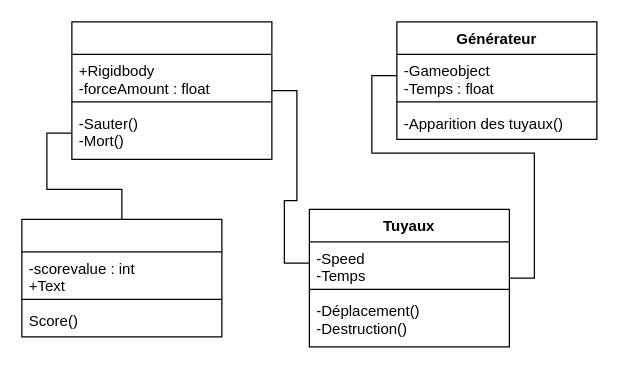
Some shapes in this 619 by 373 pixel diagram are drawn without their labels. Each missing label, with the box of its shape:
Bird: (71, 21, 272, 159)
Point: (21, 218, 222, 337)
